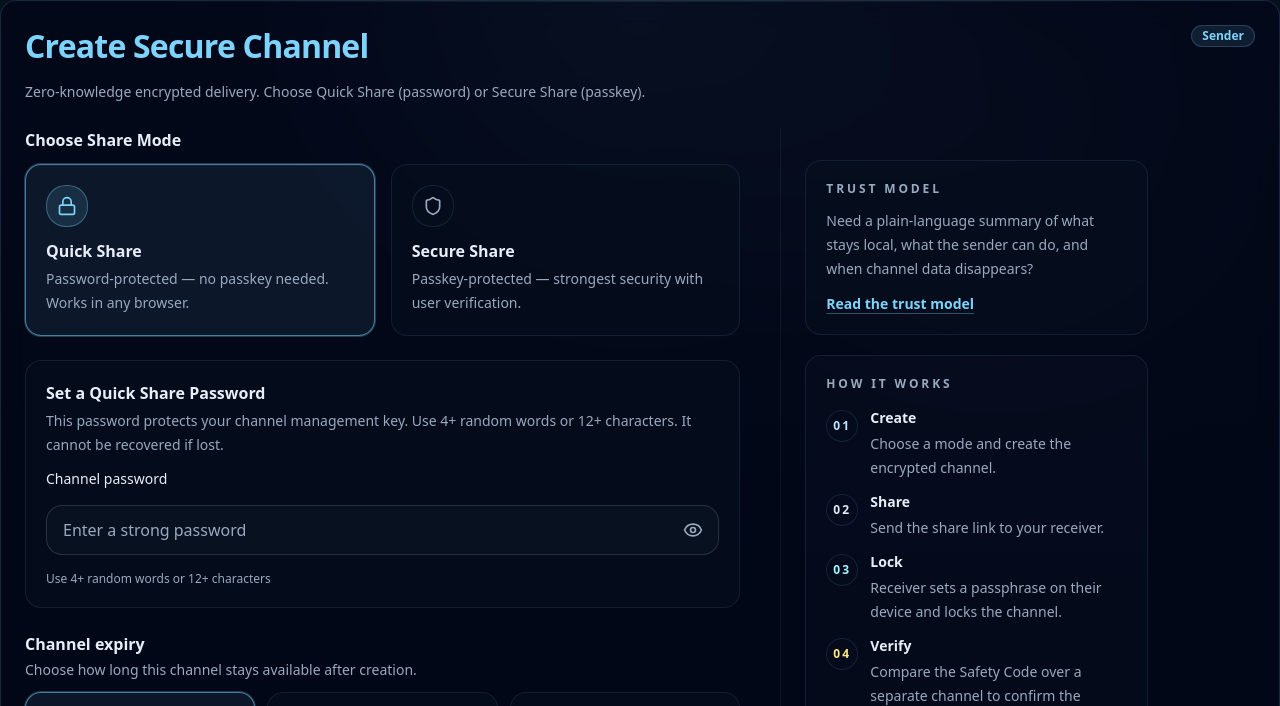
Test case: CreatePage integration › hides password panel when Secure mode is selected
The image size is (1280, 706).
Click the button with test id "mode-card-secure" at coordinates (433, 206), box top-left (391, 164), bottom-right (740, 336)
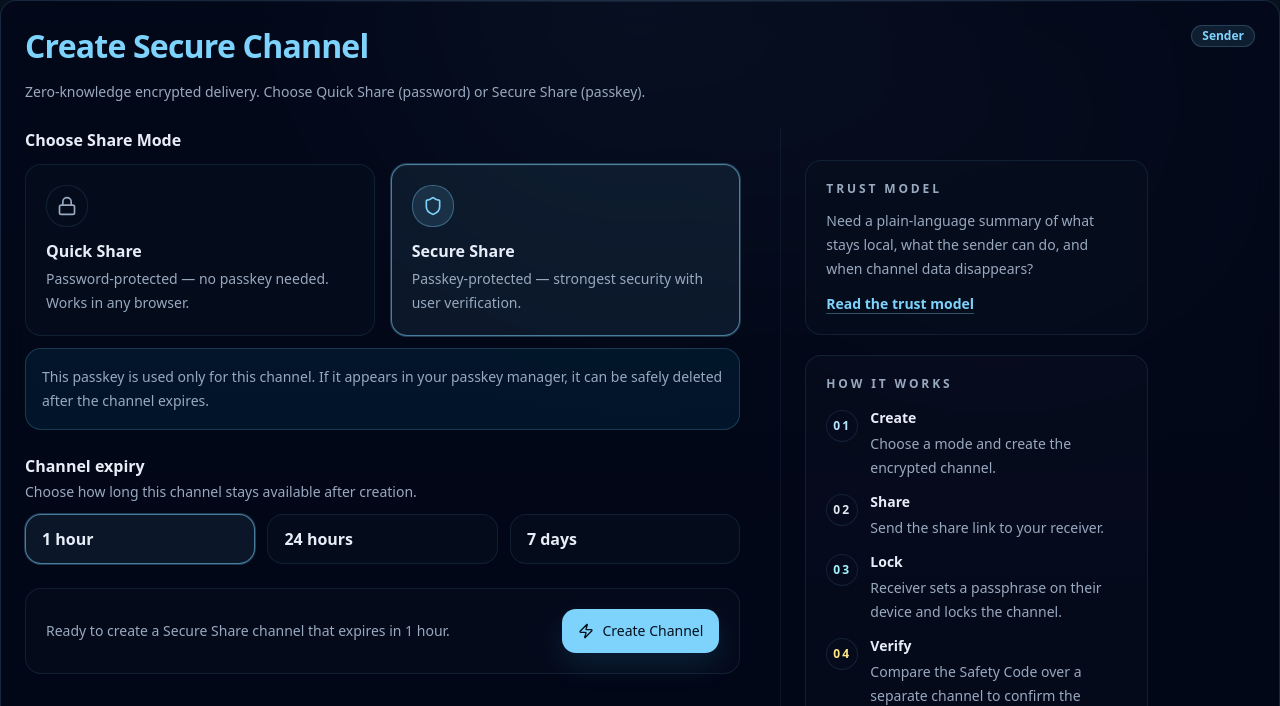
Expected: the element with test id "quick-share-password-panel" is gone
